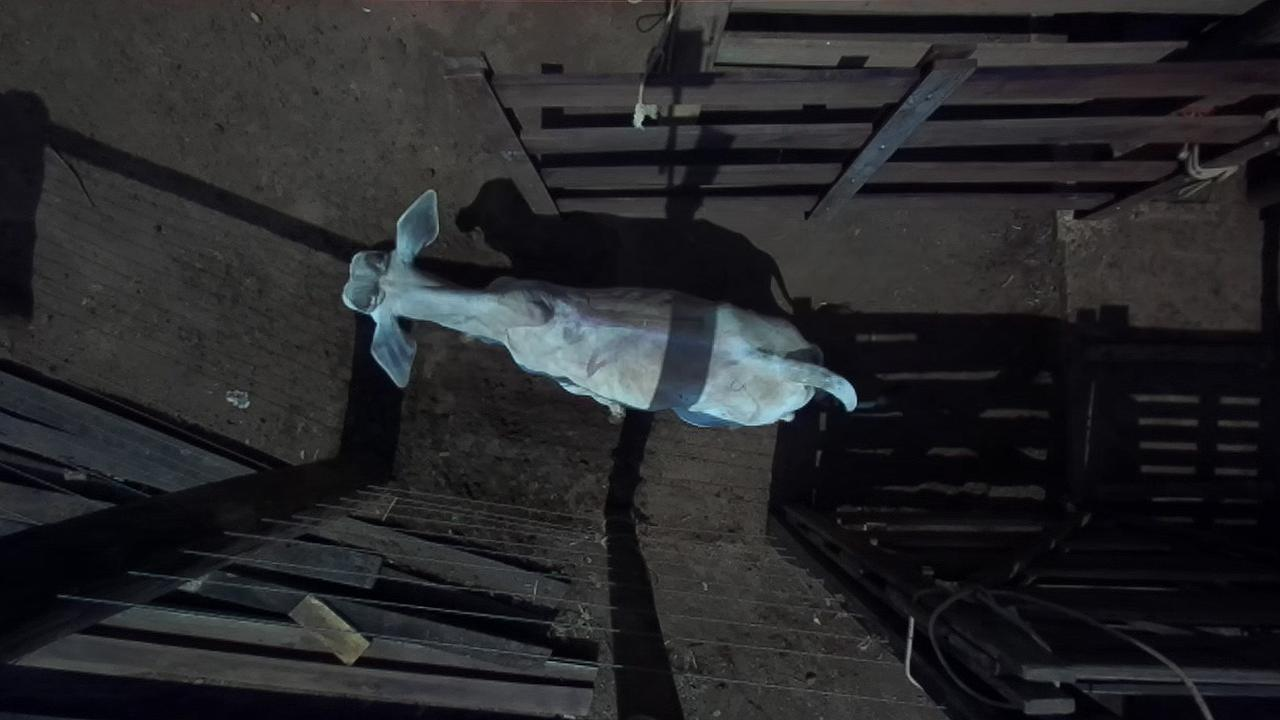cattle: (341, 187, 858, 429)
